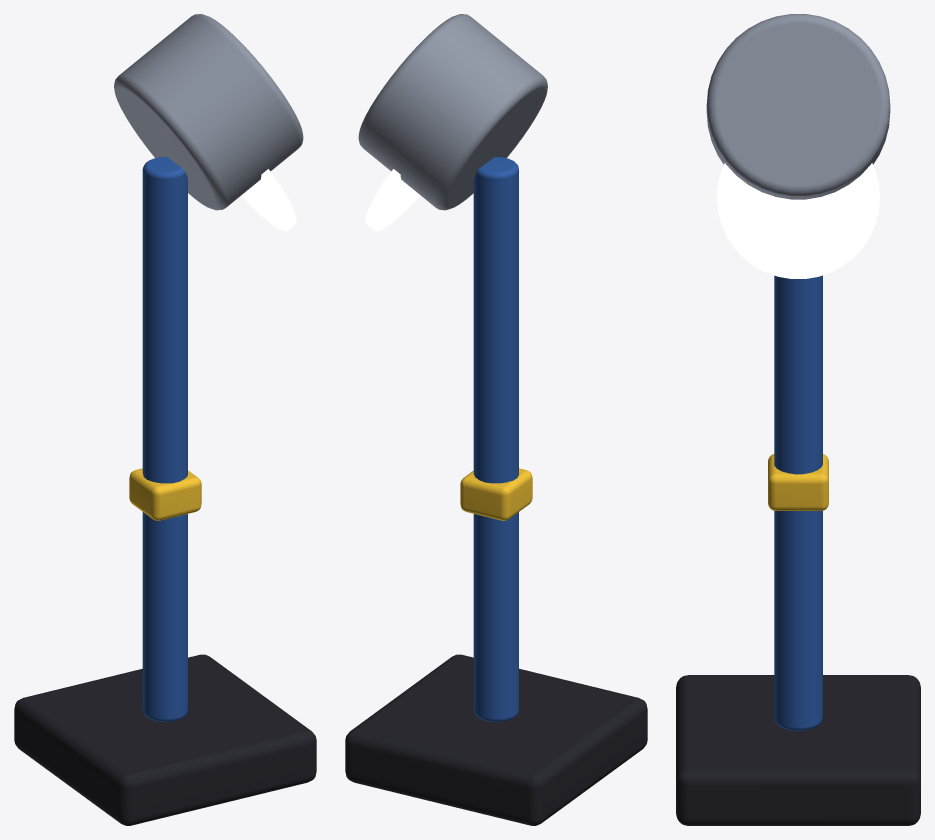
Rendered from searchlight.glb.
3 renders of one model, left to right at view 1: azimuth 30°, elevation 25°; view 2: azimuth 150°, elevation 25°; view 3: azimuth 270°, elevation 25°, orthographic. The views are drawn at different scales.
Visible parts, largest first — view 1: searchlight.003, head.070; view 2: searchlight.003, head.070; view 3: searchlight.003, head.070.
Boxes of the visible parts, box(x1,y1,x2,y2) form: searchlight.003: box(14, 157, 316, 825); head.070: box(114, 14, 303, 231); searchlight.003: box(345, 157, 647, 825); head.070: box(358, 14, 547, 231); searchlight.003: box(676, 275, 920, 825); head.070: box(706, 14, 890, 278).
Bounding box in the file's own units: 1.32 × 4.26 × 1.2.
Materials: 1 (1 with a texture image).
